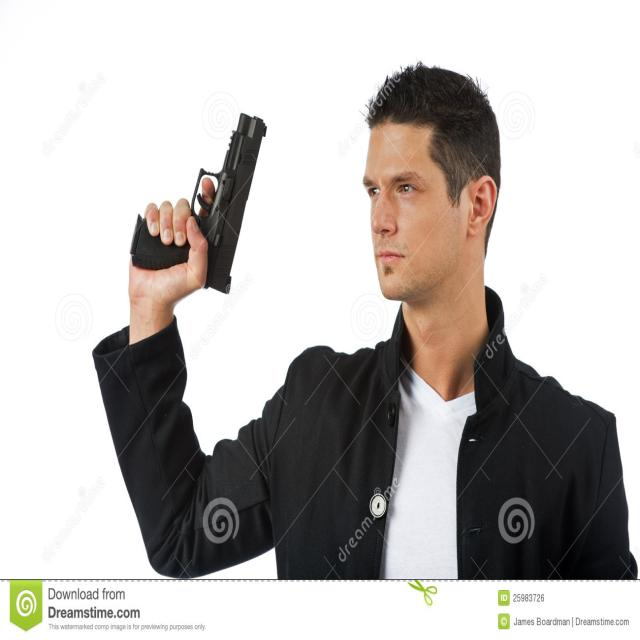HandGun: (191, 113, 267, 294)
